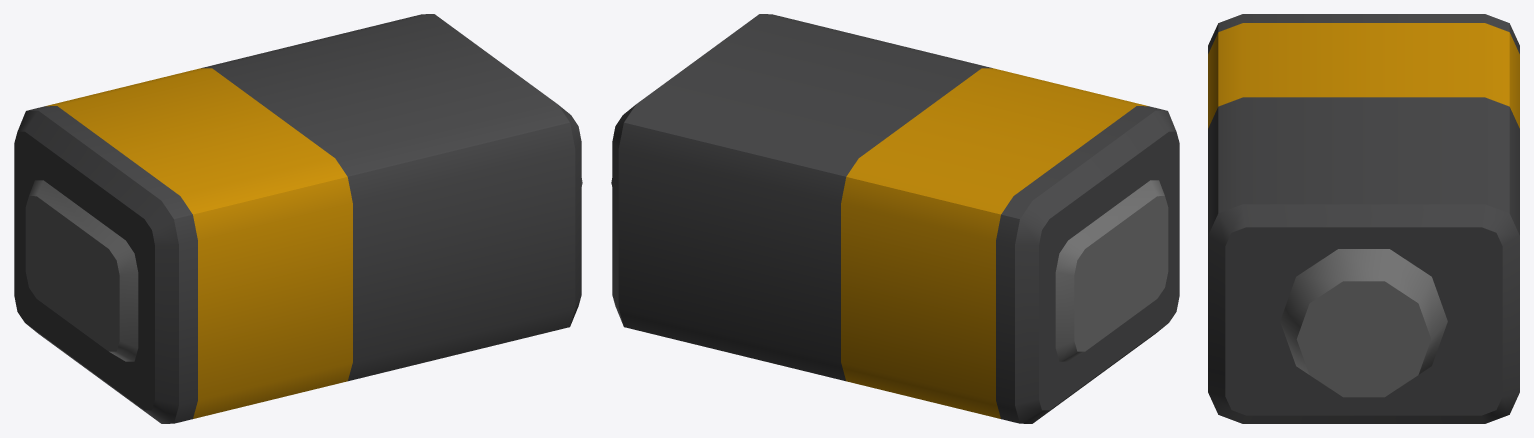
File: battery_main.fbx
3 renders of one model, left to right at view 1: azimuth 30°, elevation 25°; view 2: azimuth 150°, elevation 25°; view 3: azimuth 270°, elevation 25°, orthographic.
Parts seen in each view (by area): view 1: Cube; view 2: Cube; view 3: Cube.
Part boxes in pixels (x1,y1,x2,y2): Cube: (14, 14, 582, 423); Cube: (611, 14, 1179, 423); Cube: (1208, 14, 1519, 423).
Size of the model in its own units: 1.95 by 0.875 by 1.13.
1 material, 1 textured.
